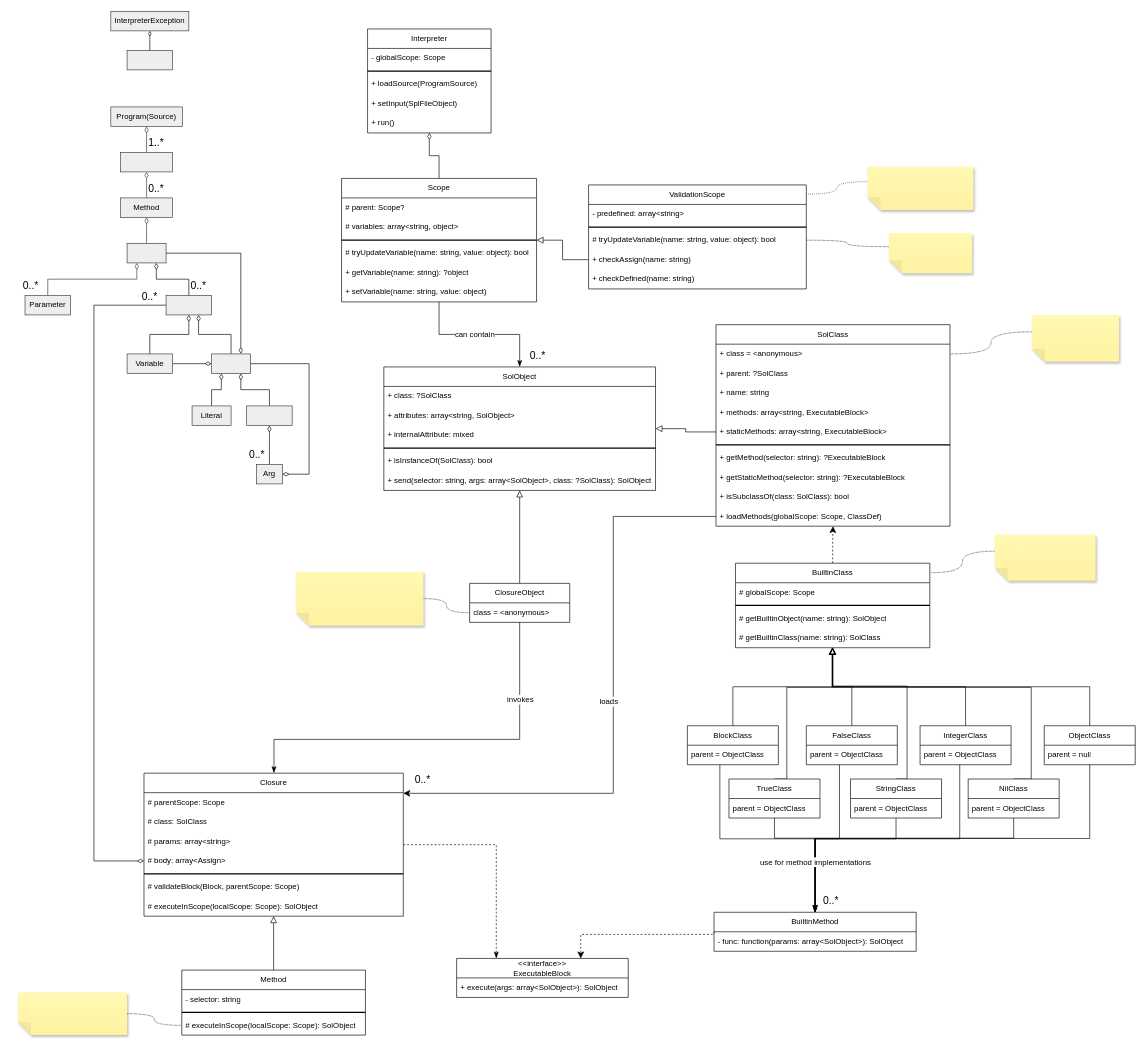
The diagram is 1147 pixels wide and 1051 high, and some of its shapes have lost their labels. Here are the shapes that lost their labels. From the top down, the centre of each, then its label:
the point at 149,60: ErrorCode
the point at 146,162: ClassDef
the point at 920,188: Stores dummy objects
the point at 146,253: Block
the point at 931,254: Throws an error on name collision
the point at 188,305: Assign
the point at 1076,339: Routes method lookups to staticMethods
the point at 231,363: Expr
the point at 269,415: Send
the point at 1045,558: Just a helper that has access to the global scope
the point at 360,599: Contains only a single method that invokes the referenced closure
the point at 73,1014: Modifies the local scope: defines "self" and "super"
